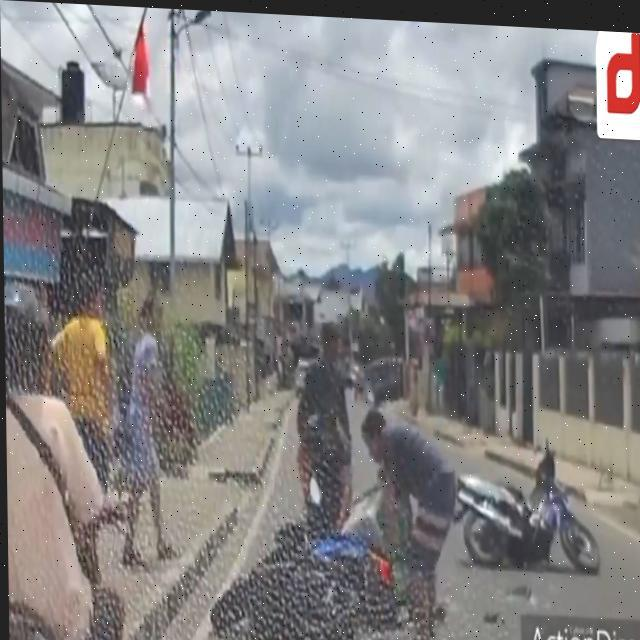multiple_accident: (195, 410, 610, 640)
